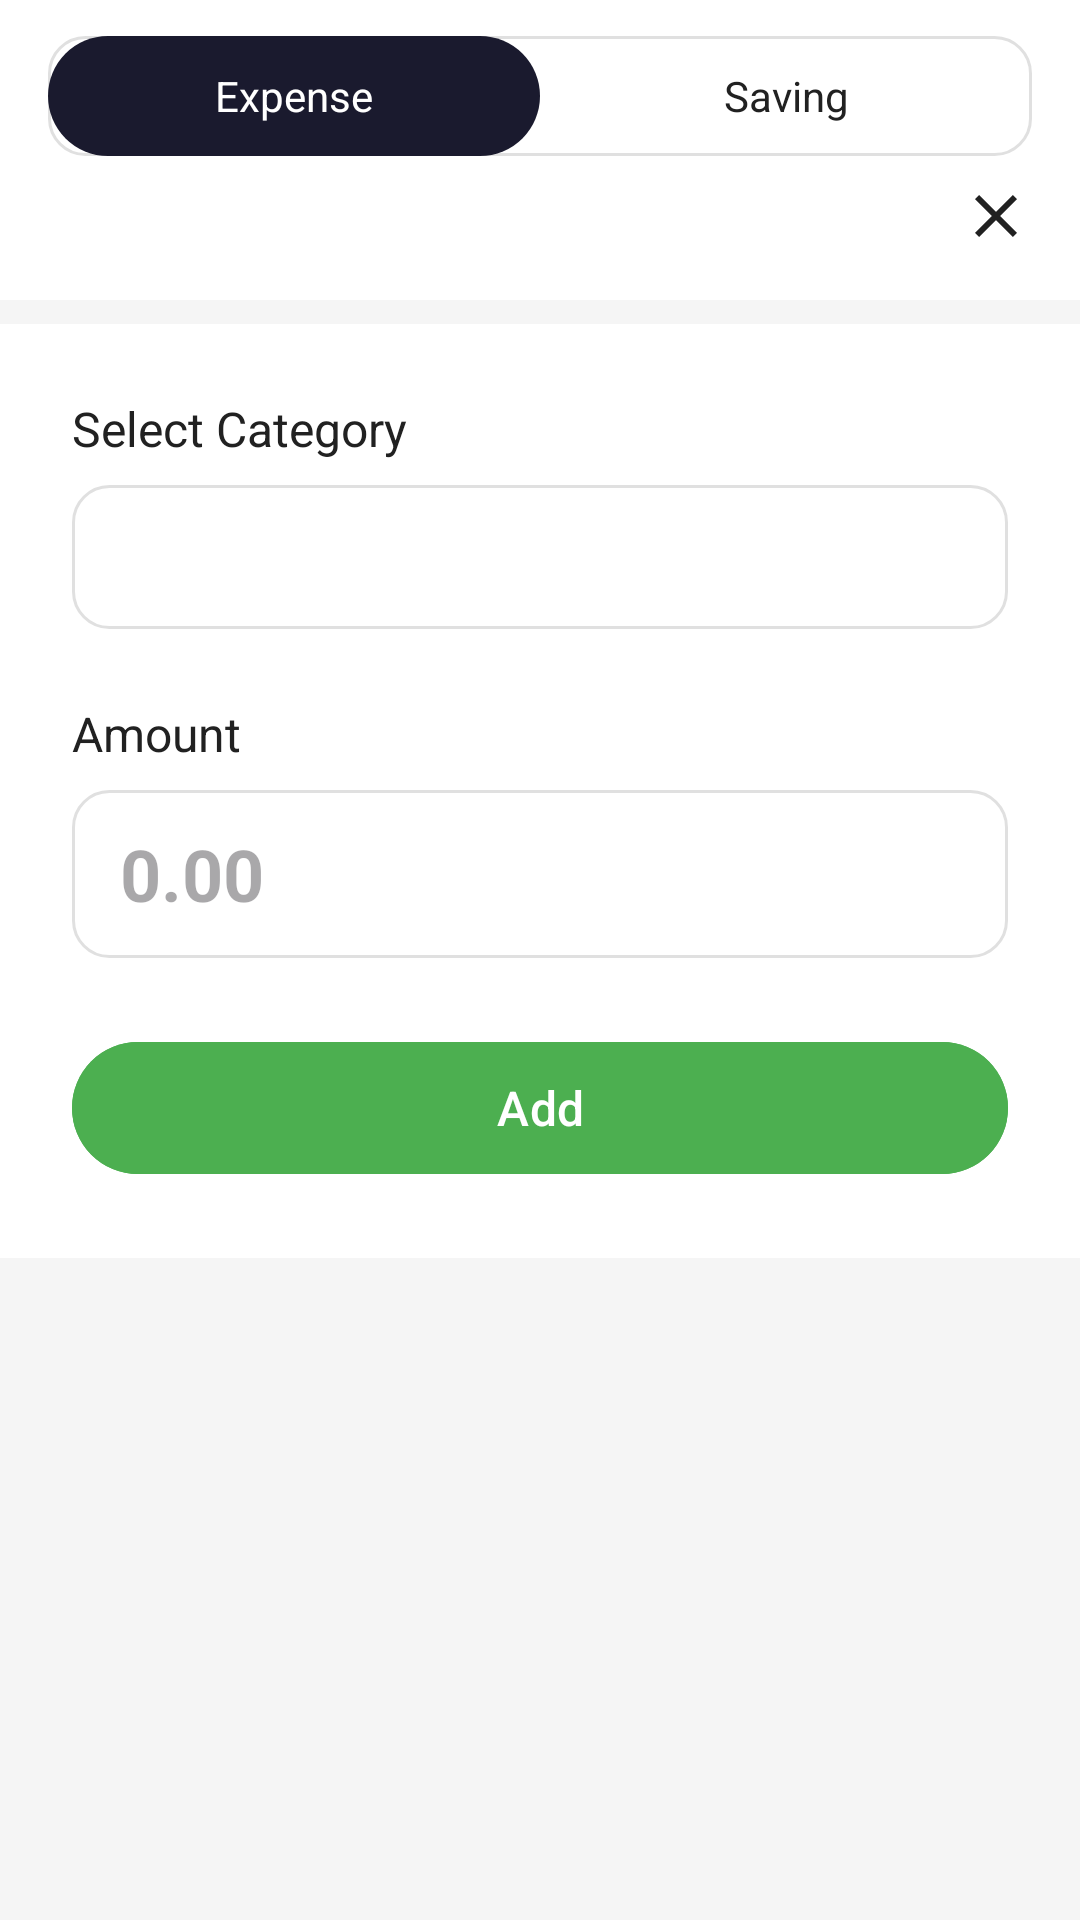

Where icons sit on this 1080×1920 app screen, as (x1, y1, x2, y2):
Close: (975, 195, 1017, 237)
